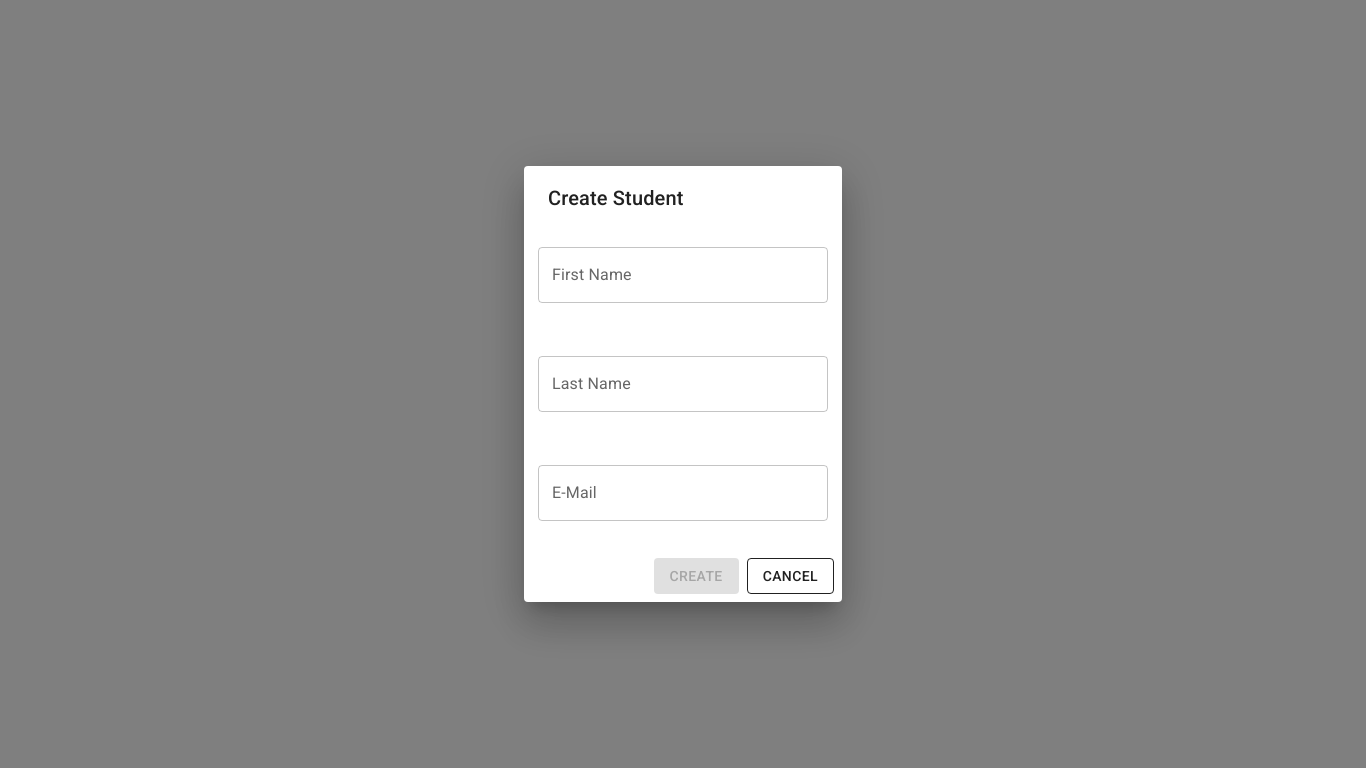
Test case: CreateStudentModal › Form Validation › validates first name field
Type "123" into the field labelled "First Name". click: coordinates (683, 275)
box: [538,247,828,303]
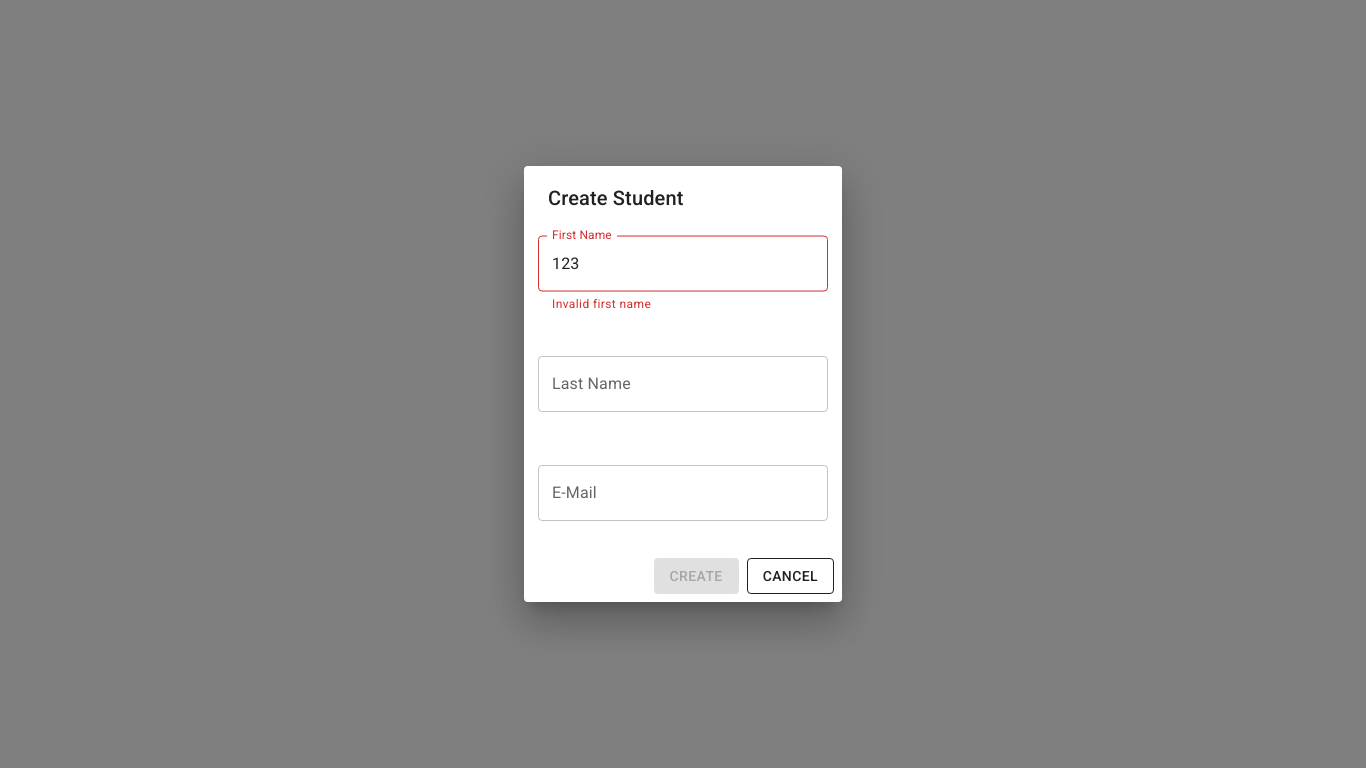
expect the text "Invalid first name" is shown: met, box [552,296,651,310]
Replace the text in the field labelled "First Name" with "Han". click: coordinates (683, 263)
box: [538,235,828,291]
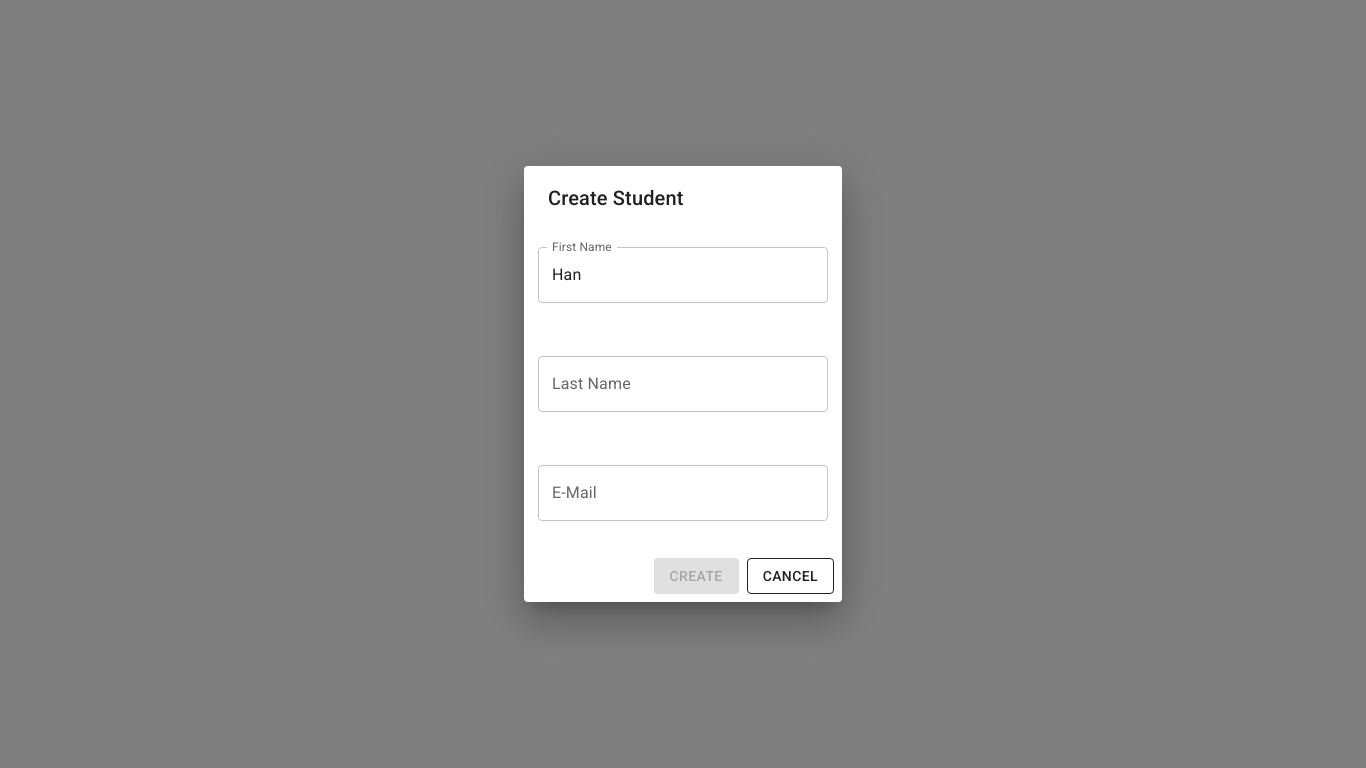
expect the text "Invalid first name" is gone: met
